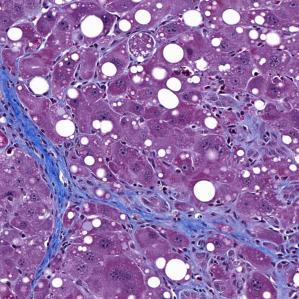fibrosis: (109, 186, 238, 243), (18, 118, 85, 206)
